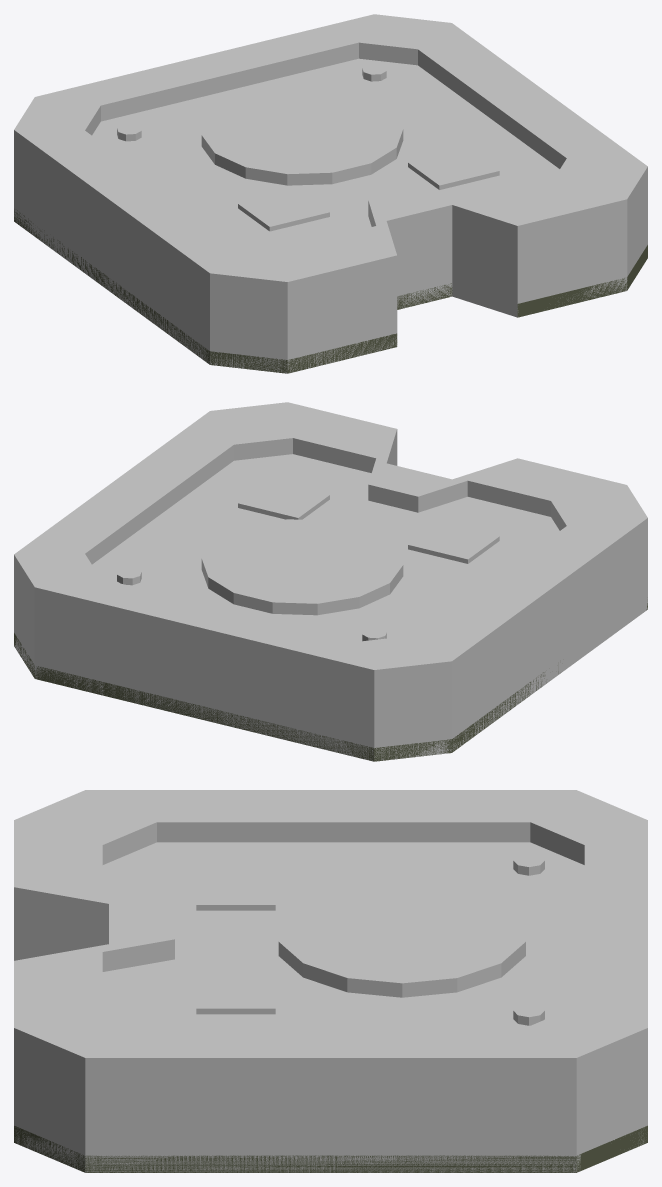
File: mech_processor_b.obj
3 renders of one model, top to bottom at view 1: azimuth 30°, elevation 25°; view 2: azimuth 150°, elevation 25°; view 3: azimuth 270°, elevation 25°, orthographic. The views are drawn at different scales.
Visible parts, largest first — view 1: mech_processor_b_26, mech_processor_b_8, mech_processor_b_27, mech_processor_b_12, mech_processor_b_20, mech_processor_b_4, mech_processor_b_24, mech_processor_b_10, mech_processor_b_0, mech_processor_b_16, mech_processor_b_18, mech_processor_b_22 (+8 smaller); view 2: mech_processor_b_4, mech_processor_b_26, mech_processor_b_8, mech_processor_b_27, mech_processor_b_24, mech_processor_b_6, mech_processor_b_0, mech_processor_b_12, mech_processor_b_20, mech_processor_b_2, mech_processor_b_22, mech_processor_b_10 (+9 smaller); view 3: mech_processor_b_24, mech_processor_b_26, mech_processor_b_27, mech_processor_b_8, mech_processor_b_4, mech_processor_b_0, mech_processor_b_22, mech_processor_b_2, mech_processor_b_14, mech_processor_b_12, mech_processor_b_20, mech_processor_b_10 (+14 smaller).
Boxes of the visible parts, x1,y1,x2,y2 form: mech_processor_b_26: (92, 58, 559, 246); mech_processor_b_8: (14, 130, 233, 359); mech_processor_b_27: (201, 89, 403, 185); mech_processor_b_12: (287, 226, 393, 373); mech_processor_b_20: (468, 185, 627, 307); mech_processor_b_4: (44, 16, 365, 121); mech_processor_b_24: (423, 23, 640, 168); mech_processor_b_10: (210, 240, 292, 372); mech_processor_b_0: (14, 209, 647, 373); mech_processor_b_16: (370, 188, 452, 308); mech_processor_b_18: (419, 188, 517, 317); mech_processor_b_22: (551, 161, 647, 273); mech_processor_b_4: (43, 578, 365, 759); mech_processor_b_26: (92, 454, 559, 641); mech_processor_b_8: (423, 522, 641, 751); mech_processor_b_27: (201, 519, 403, 615); mech_processor_b_24: (14, 416, 233, 564); mech_processor_b_6: (365, 635, 441, 761); mech_processor_b_0: (14, 603, 647, 761); mech_processor_b_12: (467, 459, 625, 515); mech_processor_b_20: (288, 402, 393, 472); mech_processor_b_2: (16, 553, 98, 677); mech_processor_b_22: (210, 403, 292, 459); mech_processor_b_10: (551, 488, 647, 530); mech_processor_b_24: (102, 1026, 576, 1172); mech_processor_b_26: (102, 842, 584, 1025); mech_processor_b_27: (278, 876, 525, 997); mech_processor_b_8: (102, 790, 575, 842); mech_processor_b_4: (584, 825, 647, 1022); mech_processor_b_0: (14, 1125, 647, 1172); mech_processor_b_22: (21, 1003, 149, 1172); mech_processor_b_2: (530, 1005, 647, 1151); mech_processor_b_14: (14, 887, 173, 960); mech_processor_b_12: (14, 820, 102, 895); mech_processor_b_20: (14, 952, 102, 1027); mech_processor_b_10: (22, 790, 149, 864).
Bounding box in the file's own units: 4 × 0.8 × 4.
